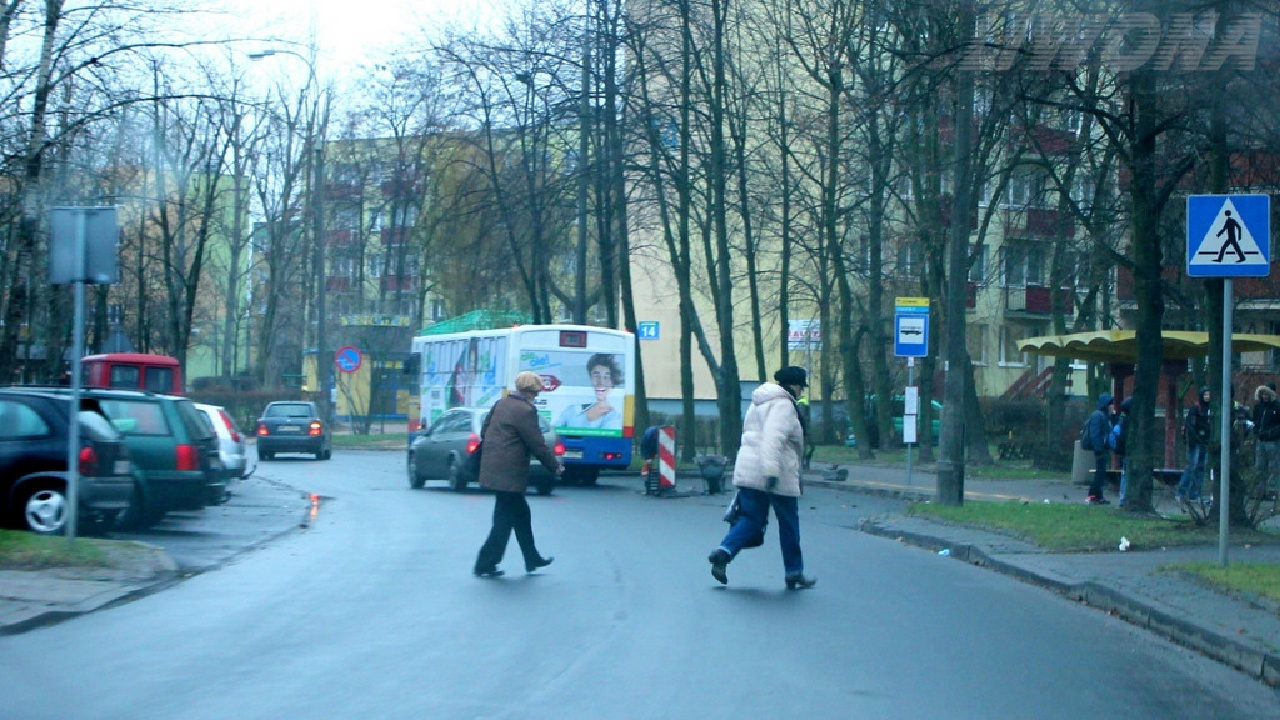D6: (1186, 194, 1273, 278)
